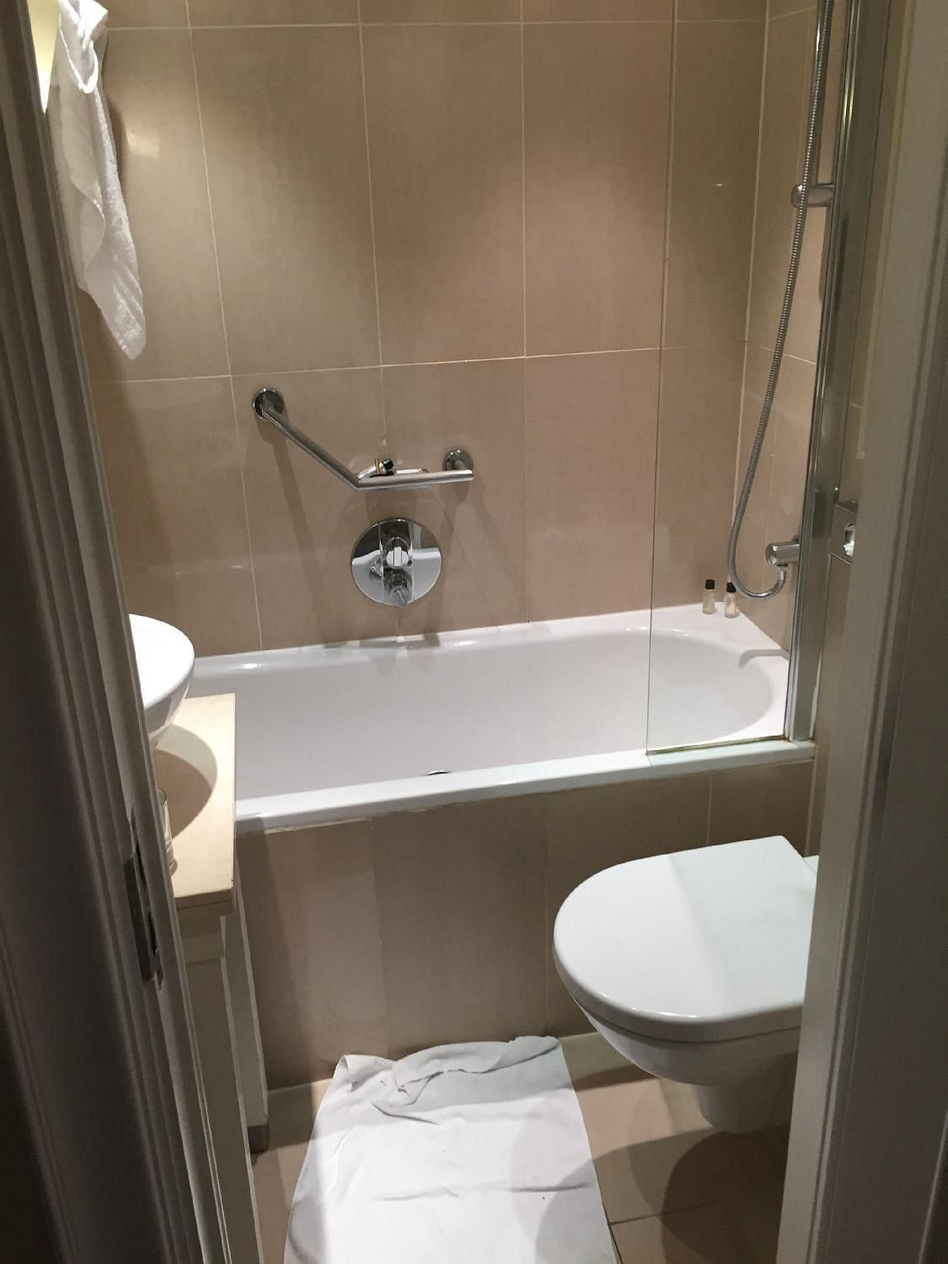clean_bathtub: (209, 581, 843, 813)
disorganized_towel: (34, 0, 166, 360)
